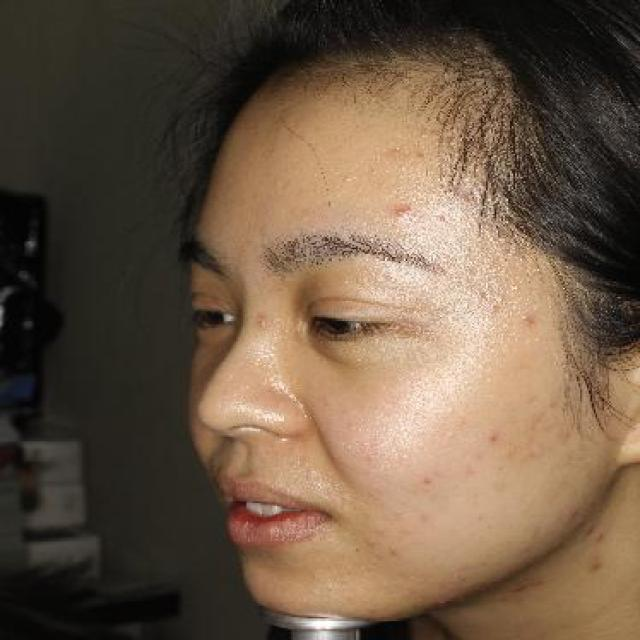nodules: (388, 203, 416, 229), (358, 533, 380, 559), (252, 309, 274, 331), (517, 311, 537, 334), (488, 428, 507, 448)
